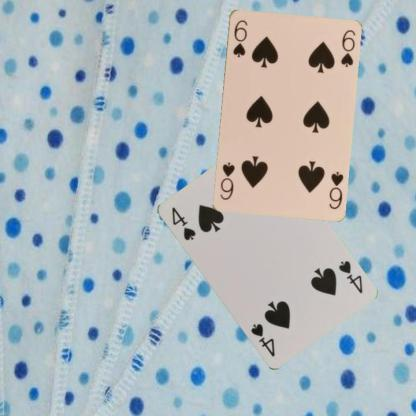4s: (168, 204, 197, 242), (335, 258, 364, 294)
6s: (230, 17, 248, 58), (326, 169, 344, 210)
